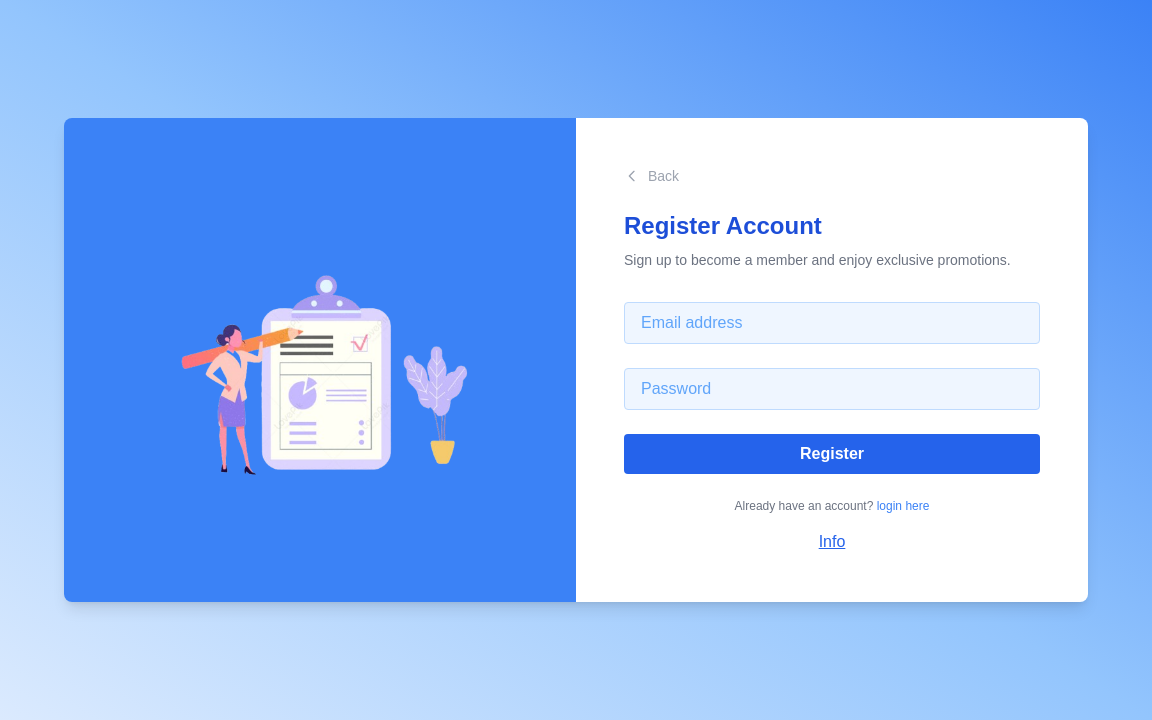
it: RegisterPage › gagal register dan tampilkan pesan error
The image size is (1152, 720).
Type "test@test.com" into the field with placeholder "Email address" at (832, 323), box [624,302,1040,344]
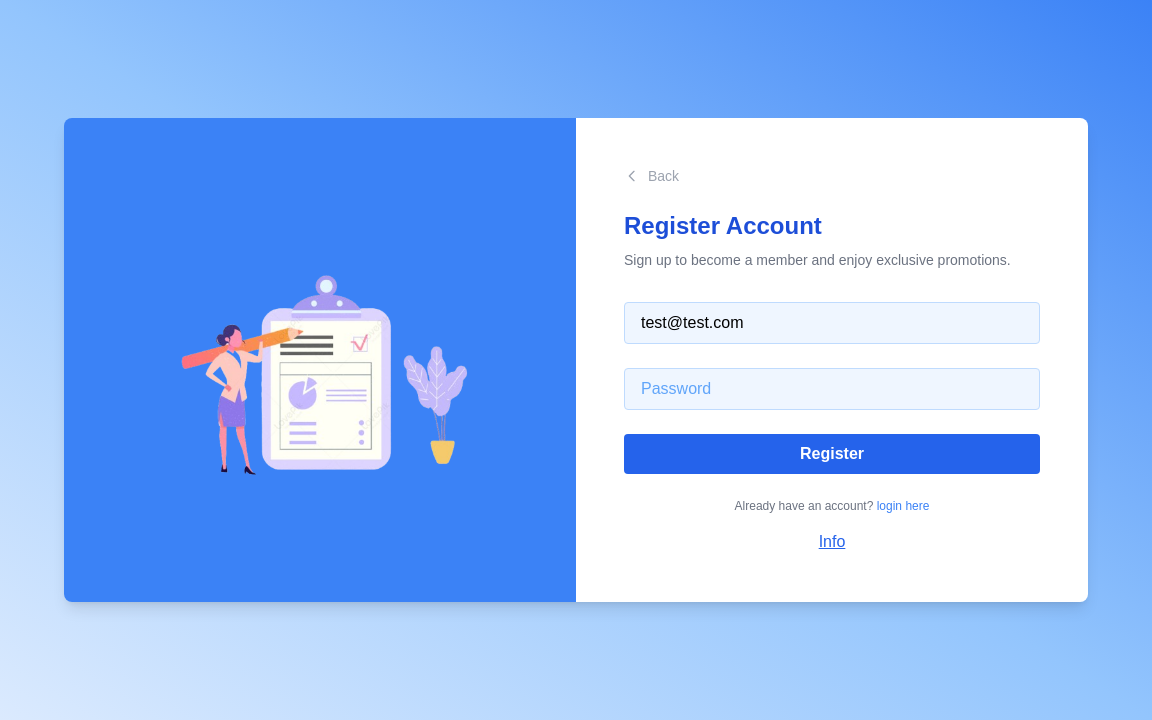
Type "test123" into the password field with placeholder "Password" at (832, 389), box [624,368,1040,410]
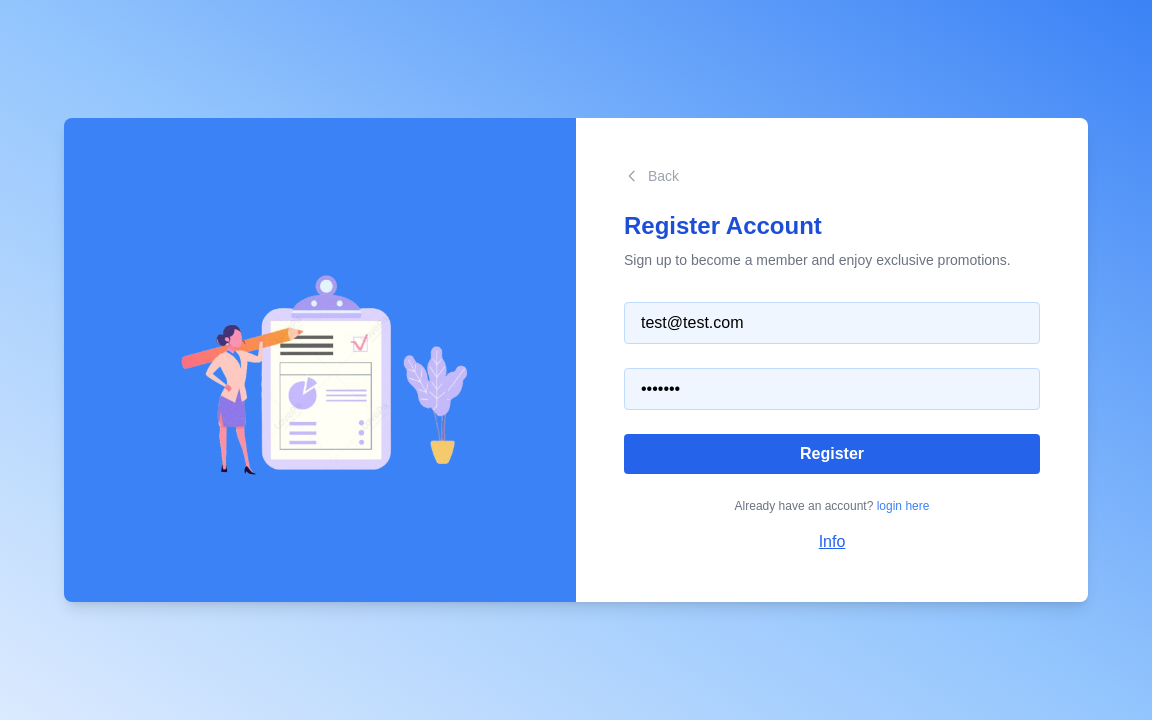
Click the button "Register" at (832, 454), box [624,434,1040,474]
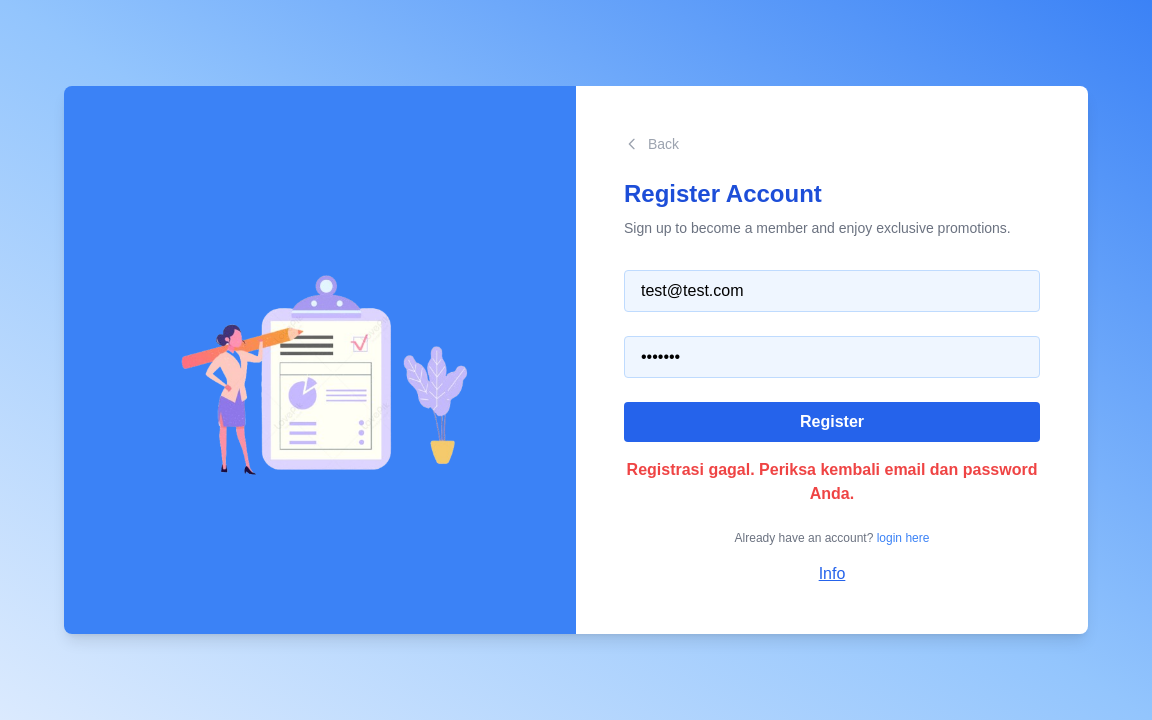
Expected: the text with test id "error-message" shows "Registrasi gagal", [627,461,1037,502]
